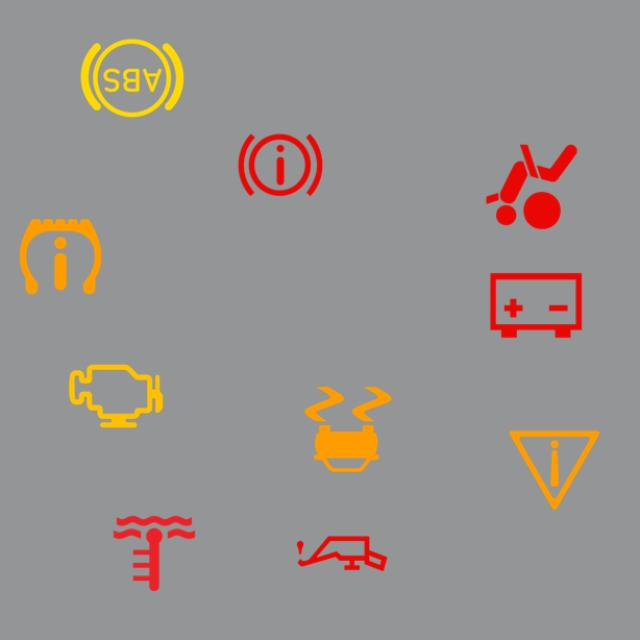Anti Lock Braking System: (76, 22, 188, 134)
Braking System Issue: (225, 108, 336, 220)
Charging System Issue: (480, 250, 592, 362)
Check Engine: (60, 340, 172, 452)
Electronic Stability Problem -ESP-: (292, 374, 404, 486)
Engine Overheating Warning Light: (98, 498, 210, 610)
Low Engine Oil Warning Light: (286, 498, 398, 610)
Low Tire Pressure Warning Light: (5, 200, 116, 312)
Master warning light: (498, 414, 610, 526)
SRS-Airbag: (476, 130, 588, 242)
